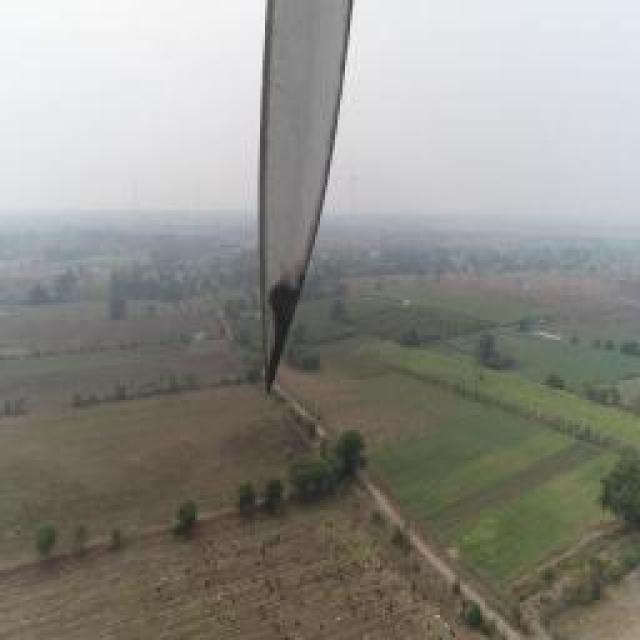Oil LEAKAGE: (265, 263, 306, 392)
